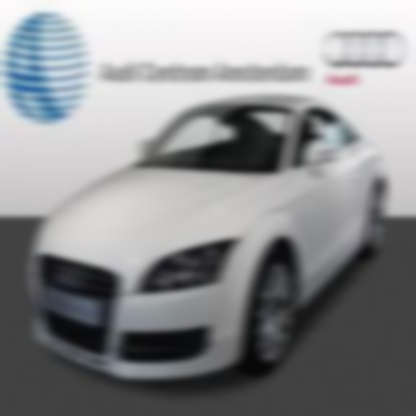Vehicle: (24, 94, 394, 394)
